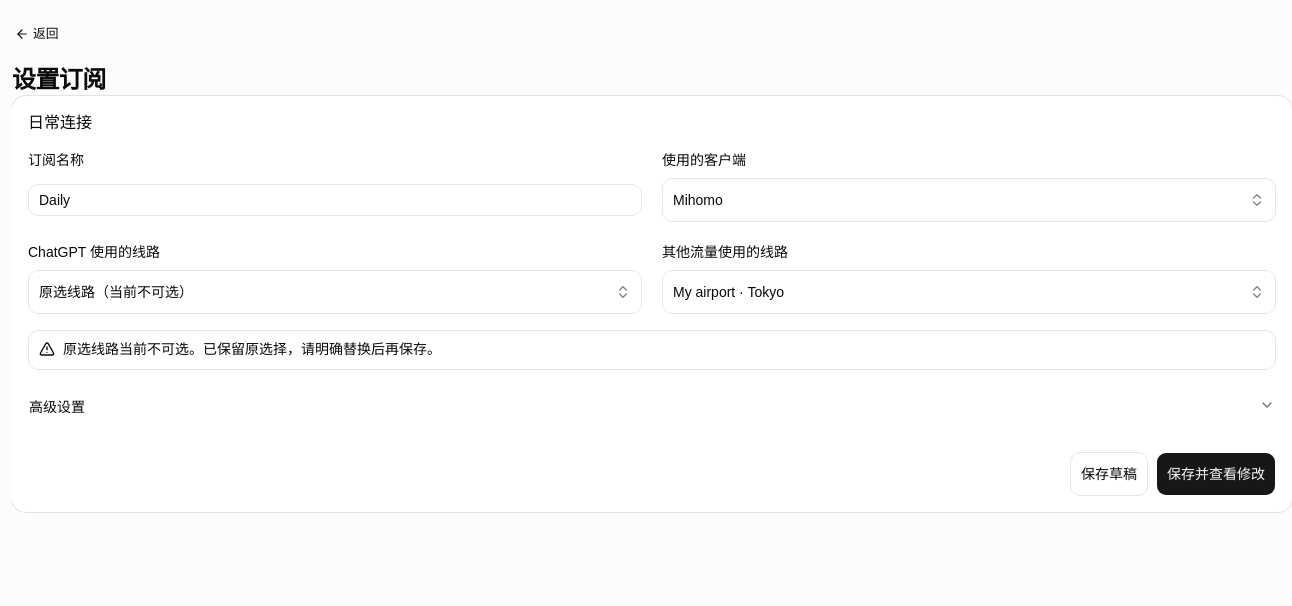
Test: keeps an unavailable saved choice visible instead of substituting another route
The width and height of the screenshot is (1292, 606).
Check: the text "原选线路当前不可选。已保留原选择，请明确替换后再保存。" is shown, box [63,341,441,357]
Click the button "保存并查看修改".
click(1216, 474)  # box [1156,452,1276,496]
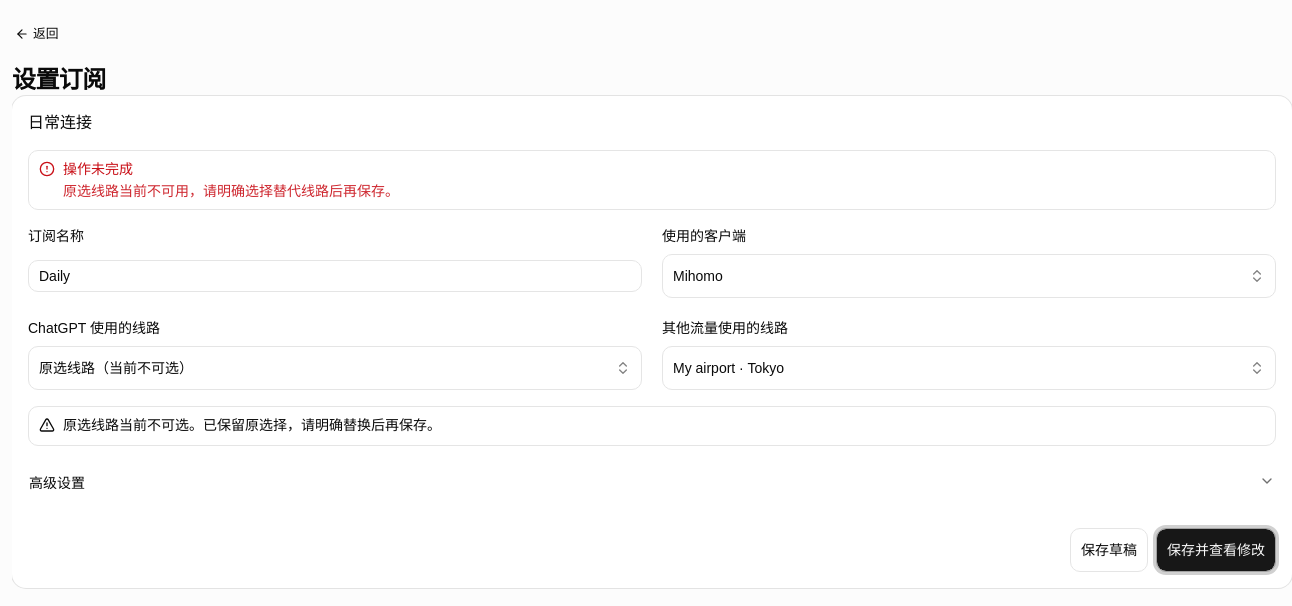
Check: the text "原选线路当前不可用，请明确选择替代线路后再保存。" is shown, box [63,183,399,199]
